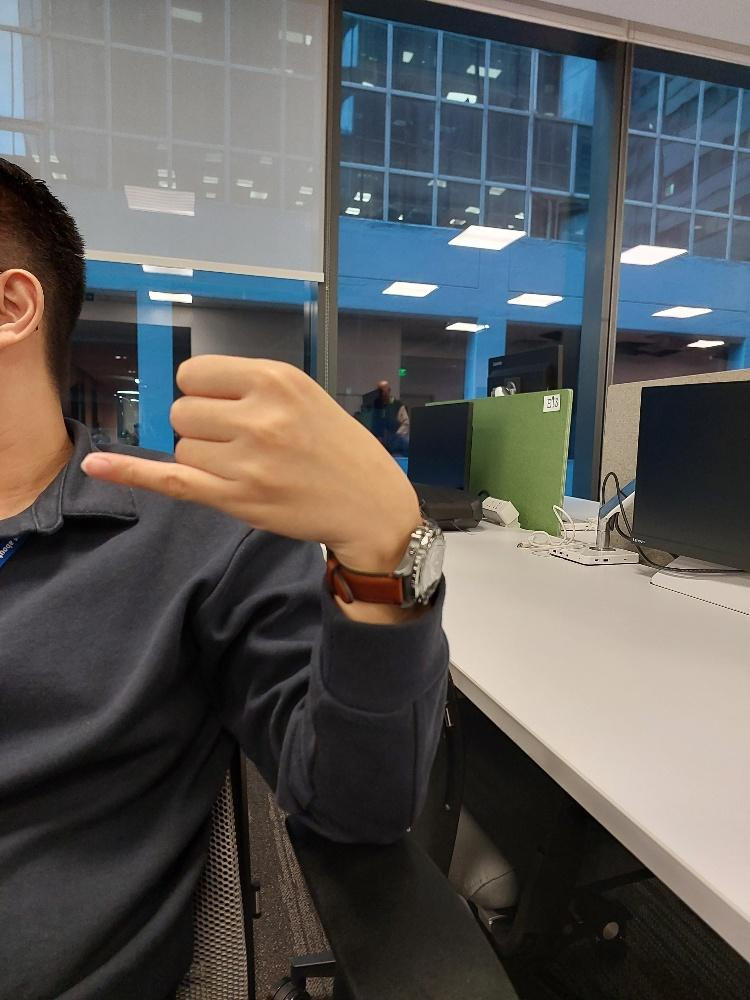j: (80, 354, 370, 543)
